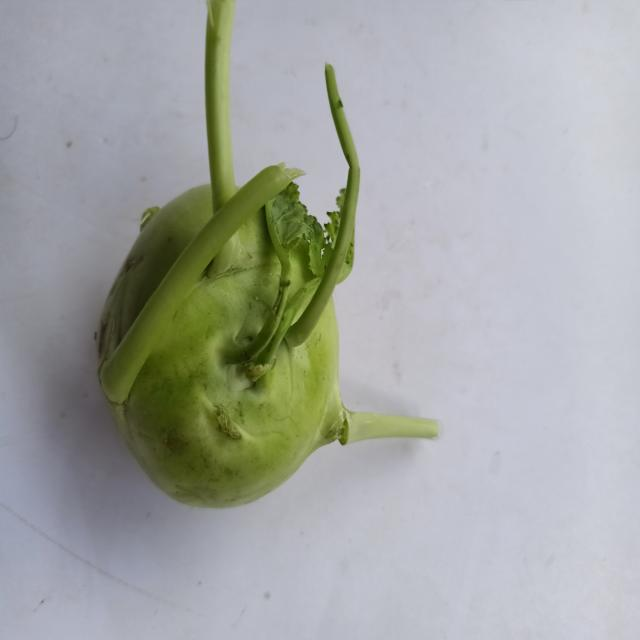Turnip: (70, 4, 449, 514)
